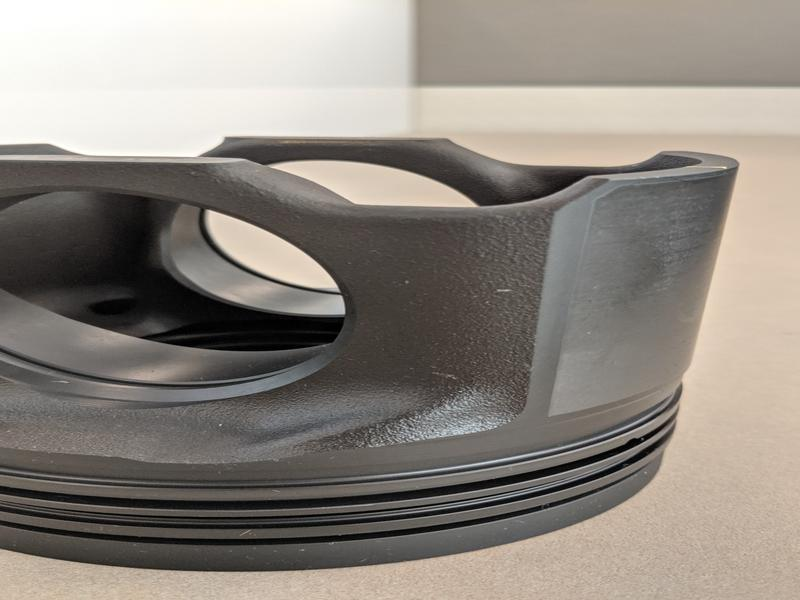piston: (1, 132, 744, 575)
